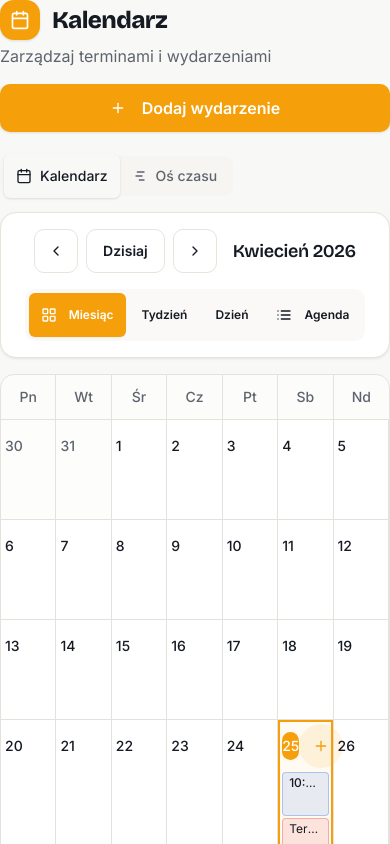
it: Calendar › [REGRESSION] add new event — no crash › should close dialog after successful save
Click the button "Dodaj wydarzenie" at (195, 108), box [0,84,389,132]
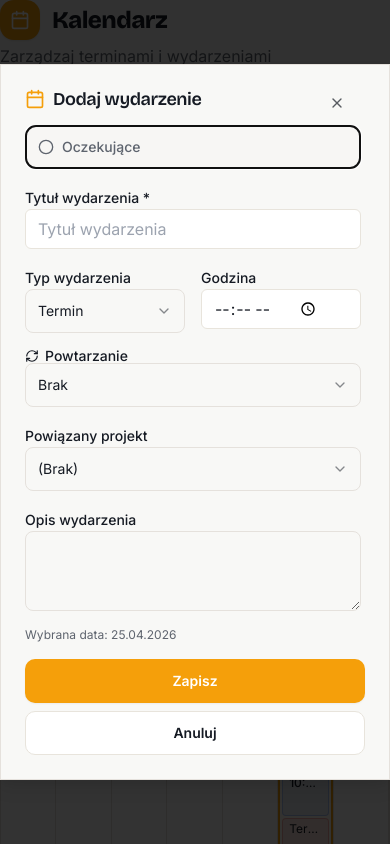
Check: the dialog is shown
Type "Spotkanie zamknięcia" into the field with placeholder "Tytuł wydarzenia" at (193, 229), box [25,209,361,249]
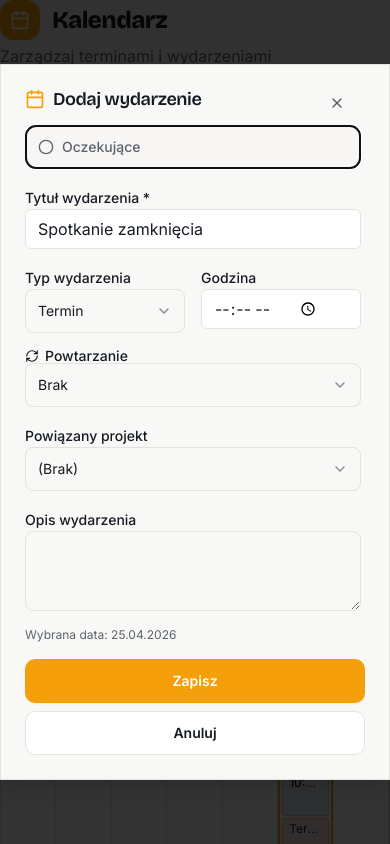
Click the button "Zapisz" at (195, 681), box [25,659,365,703]
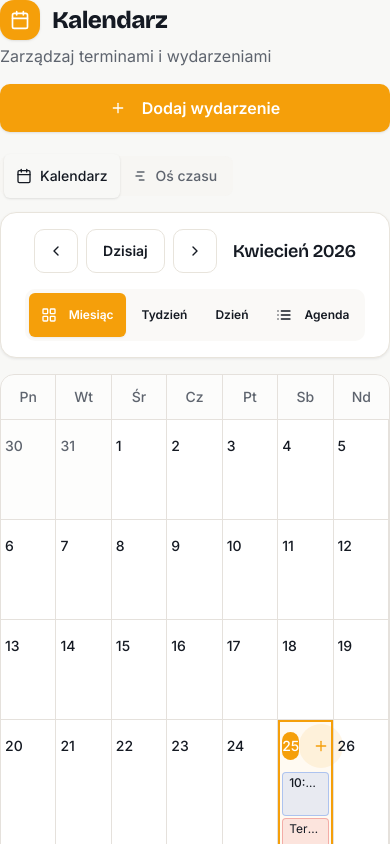
Check: the dialog is gone
